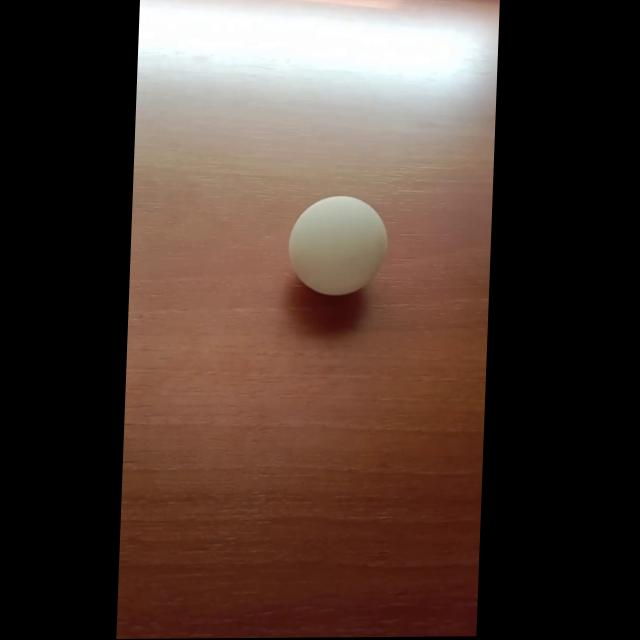white ball: (286, 194, 390, 297)
